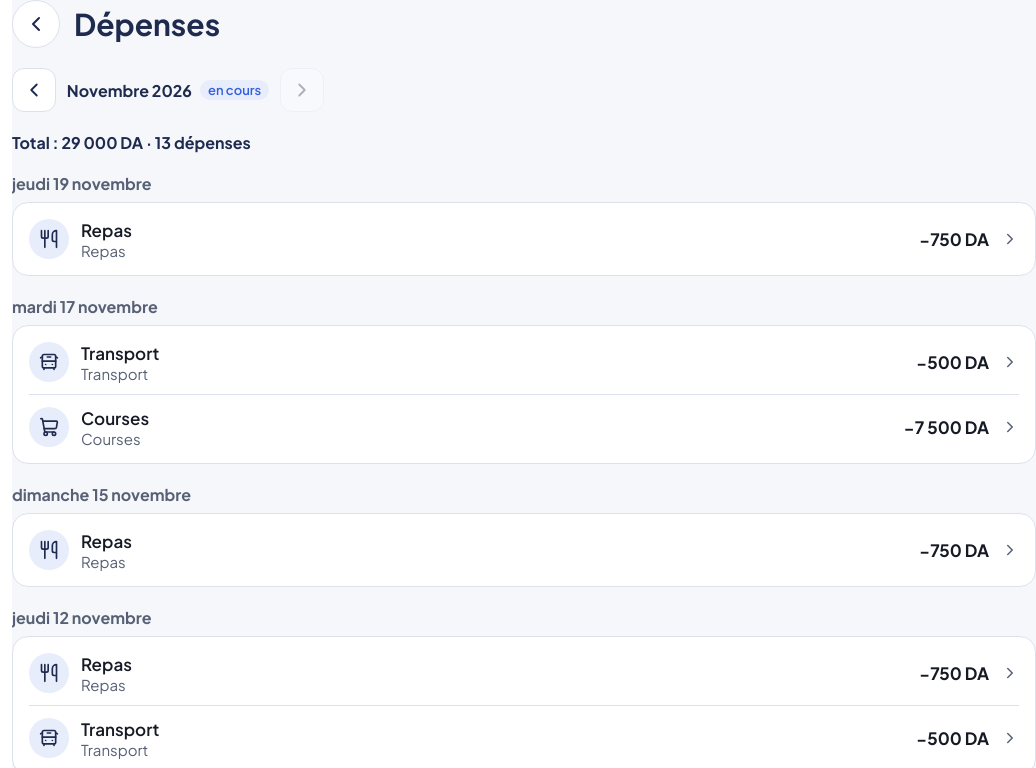
Test: Dépenses du mois › jeu de démo : jusqu’à M-4, puis désactivé
Click the button named "Mois précédent".
click(34, 90)  # box [12,68,56,112]
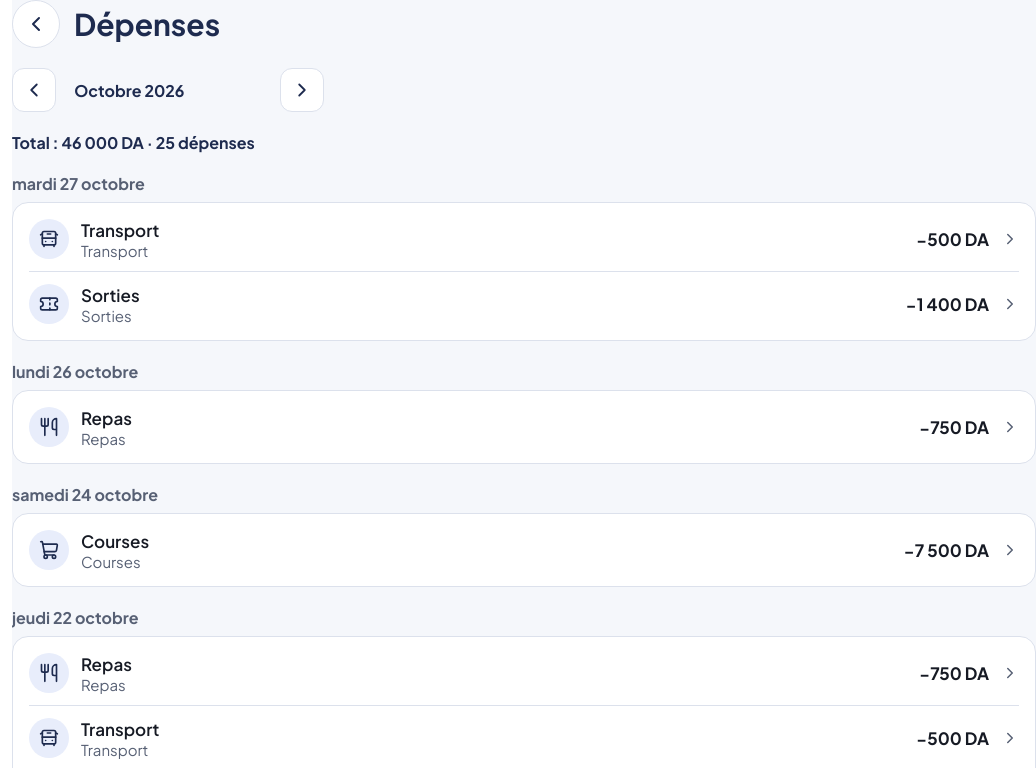
Click the button named "Mois précédent".
click(34, 90)  # box [12,68,56,112]
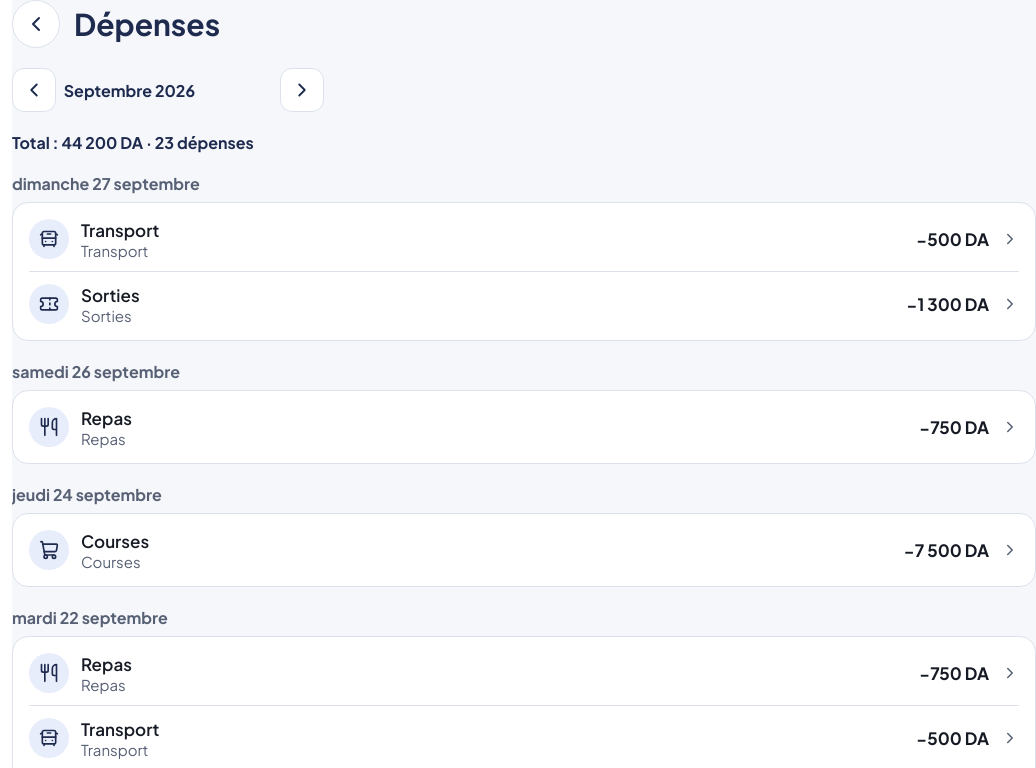
Click the button named "Mois précédent".
click(34, 90)  # box [12,68,56,112]
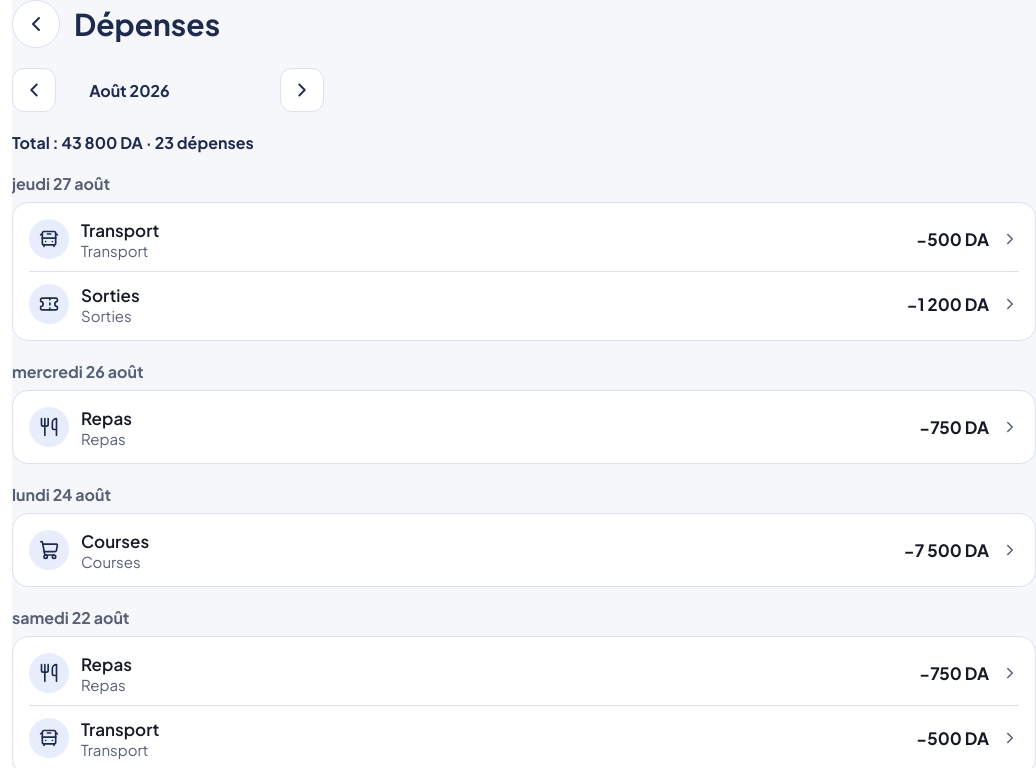
Click the button named "Mois précédent".
click(34, 90)  # box [12,68,56,112]
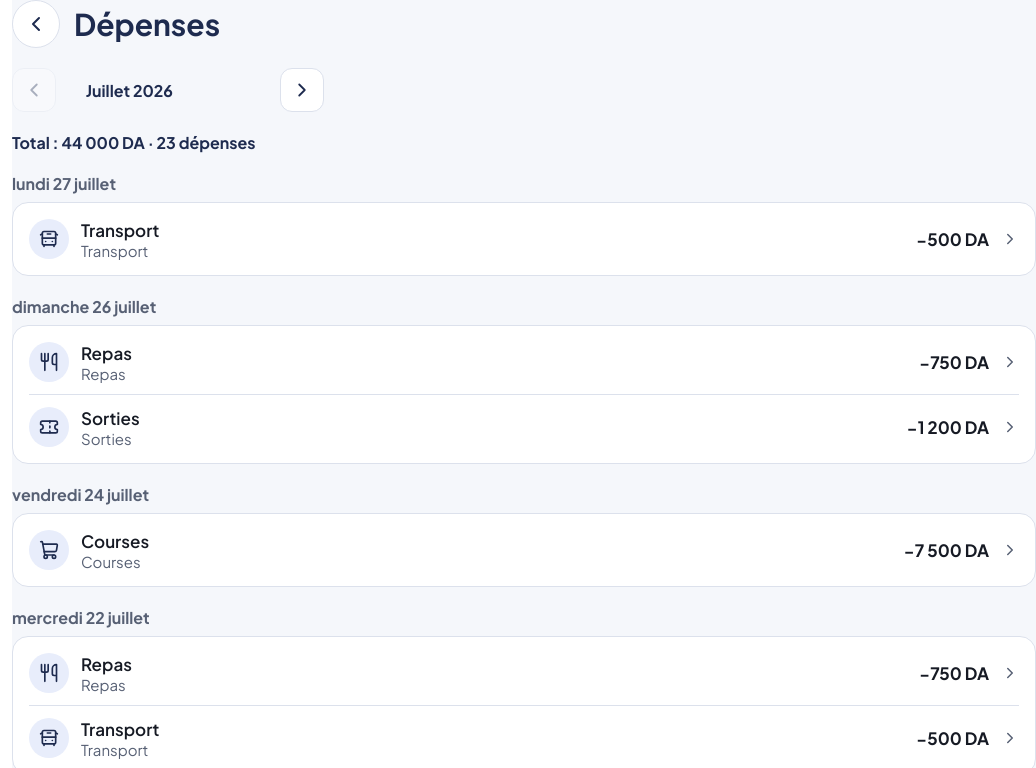
Now the button named "Mois précédent" is disabled, box [12,68,56,112]
